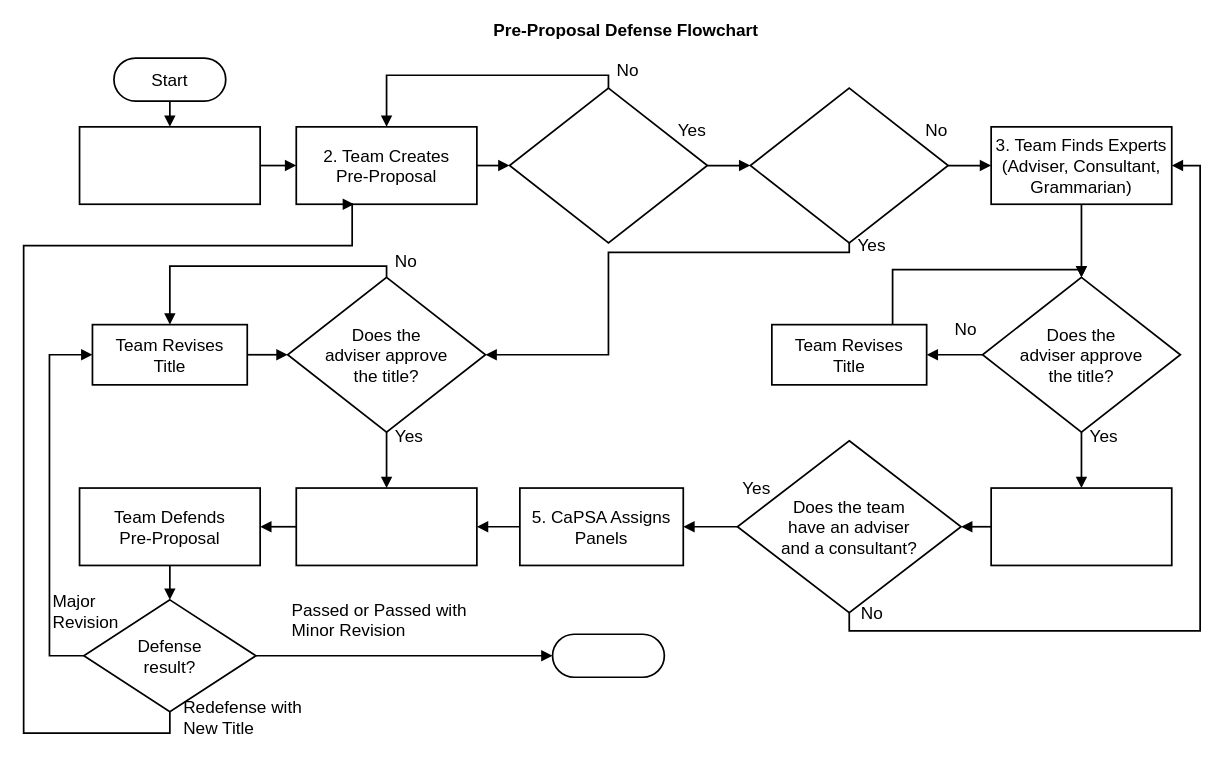
Some shapes in this 1224 by 757 pixel diagram are drawn without their labels. The box of each missing label's shape, as (x1, y1, x2, y2) in pixels:
1. Student Team Formation: (78, 126, 261, 205)
4. Team Submits Role Acceptance Forms to CaPSA: (990, 487, 1172, 566)
6. CaPSA Schedules Pre-Proposal Defense: (295, 487, 477, 566)
Does CaPSA recommend the pre-proposal?: (508, 87, 708, 243)
Does the team already have experts?: (749, 87, 949, 243)
End: (551, 633, 665, 678)
